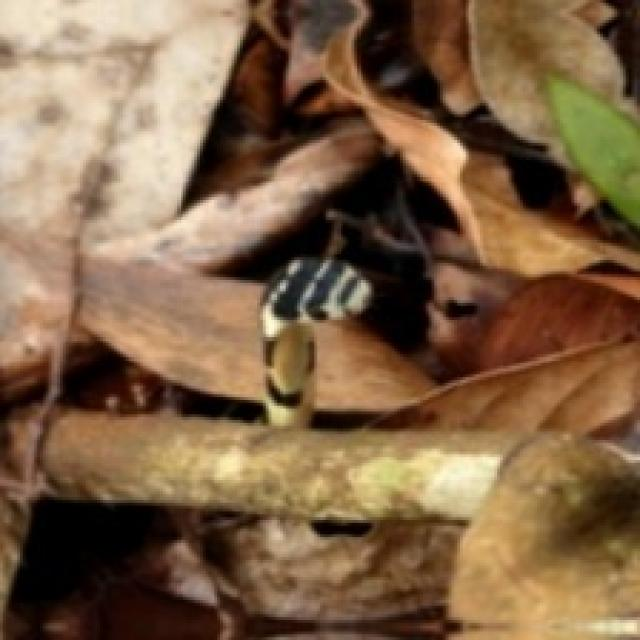king cobra: (260, 257, 371, 423)
